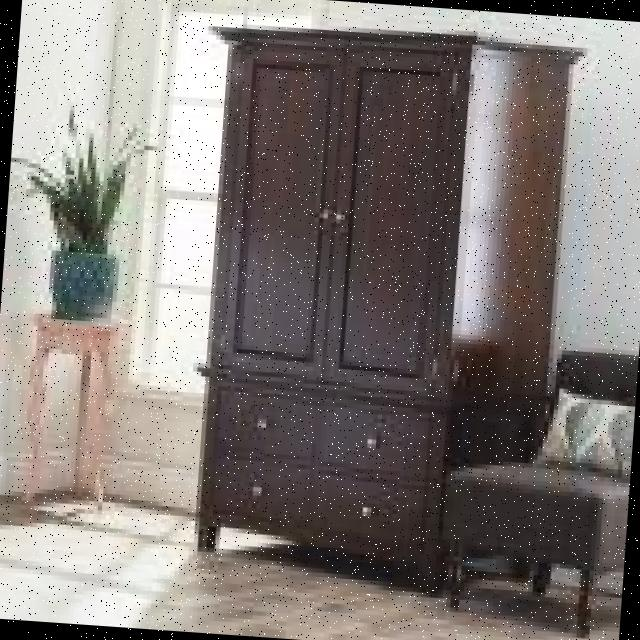Chair: (438, 334, 638, 632)
Closet: (166, 14, 592, 612)
Table: (14, 313, 134, 522)
